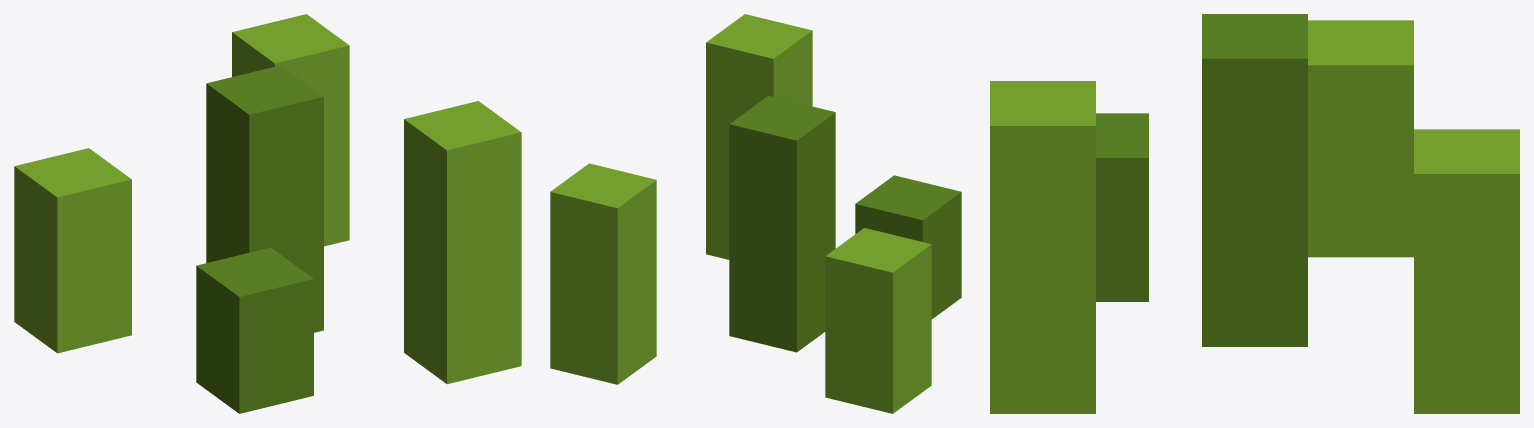
File: grass.fbx
The picture shows the model from 3 angles, left to right: view 1: azimuth 30°, elevation 25°; view 2: azimuth 150°, elevation 25°; view 3: azimuth 270°, elevation 25°; orthographic projection. The views are drawn at different scales.
Visible parts, largest first — view 1: ObjObject.012; view 2: ObjObject.012; view 3: ObjObject.012.
Part boxes in pixels (x1,y1,x2,y2): ObjObject.012: [14, 14, 521, 413]; ObjObject.012: [550, 14, 961, 413]; ObjObject.012: [990, 14, 1519, 413].
Bounding box in the file's own units: 90 × 60 × 100.
